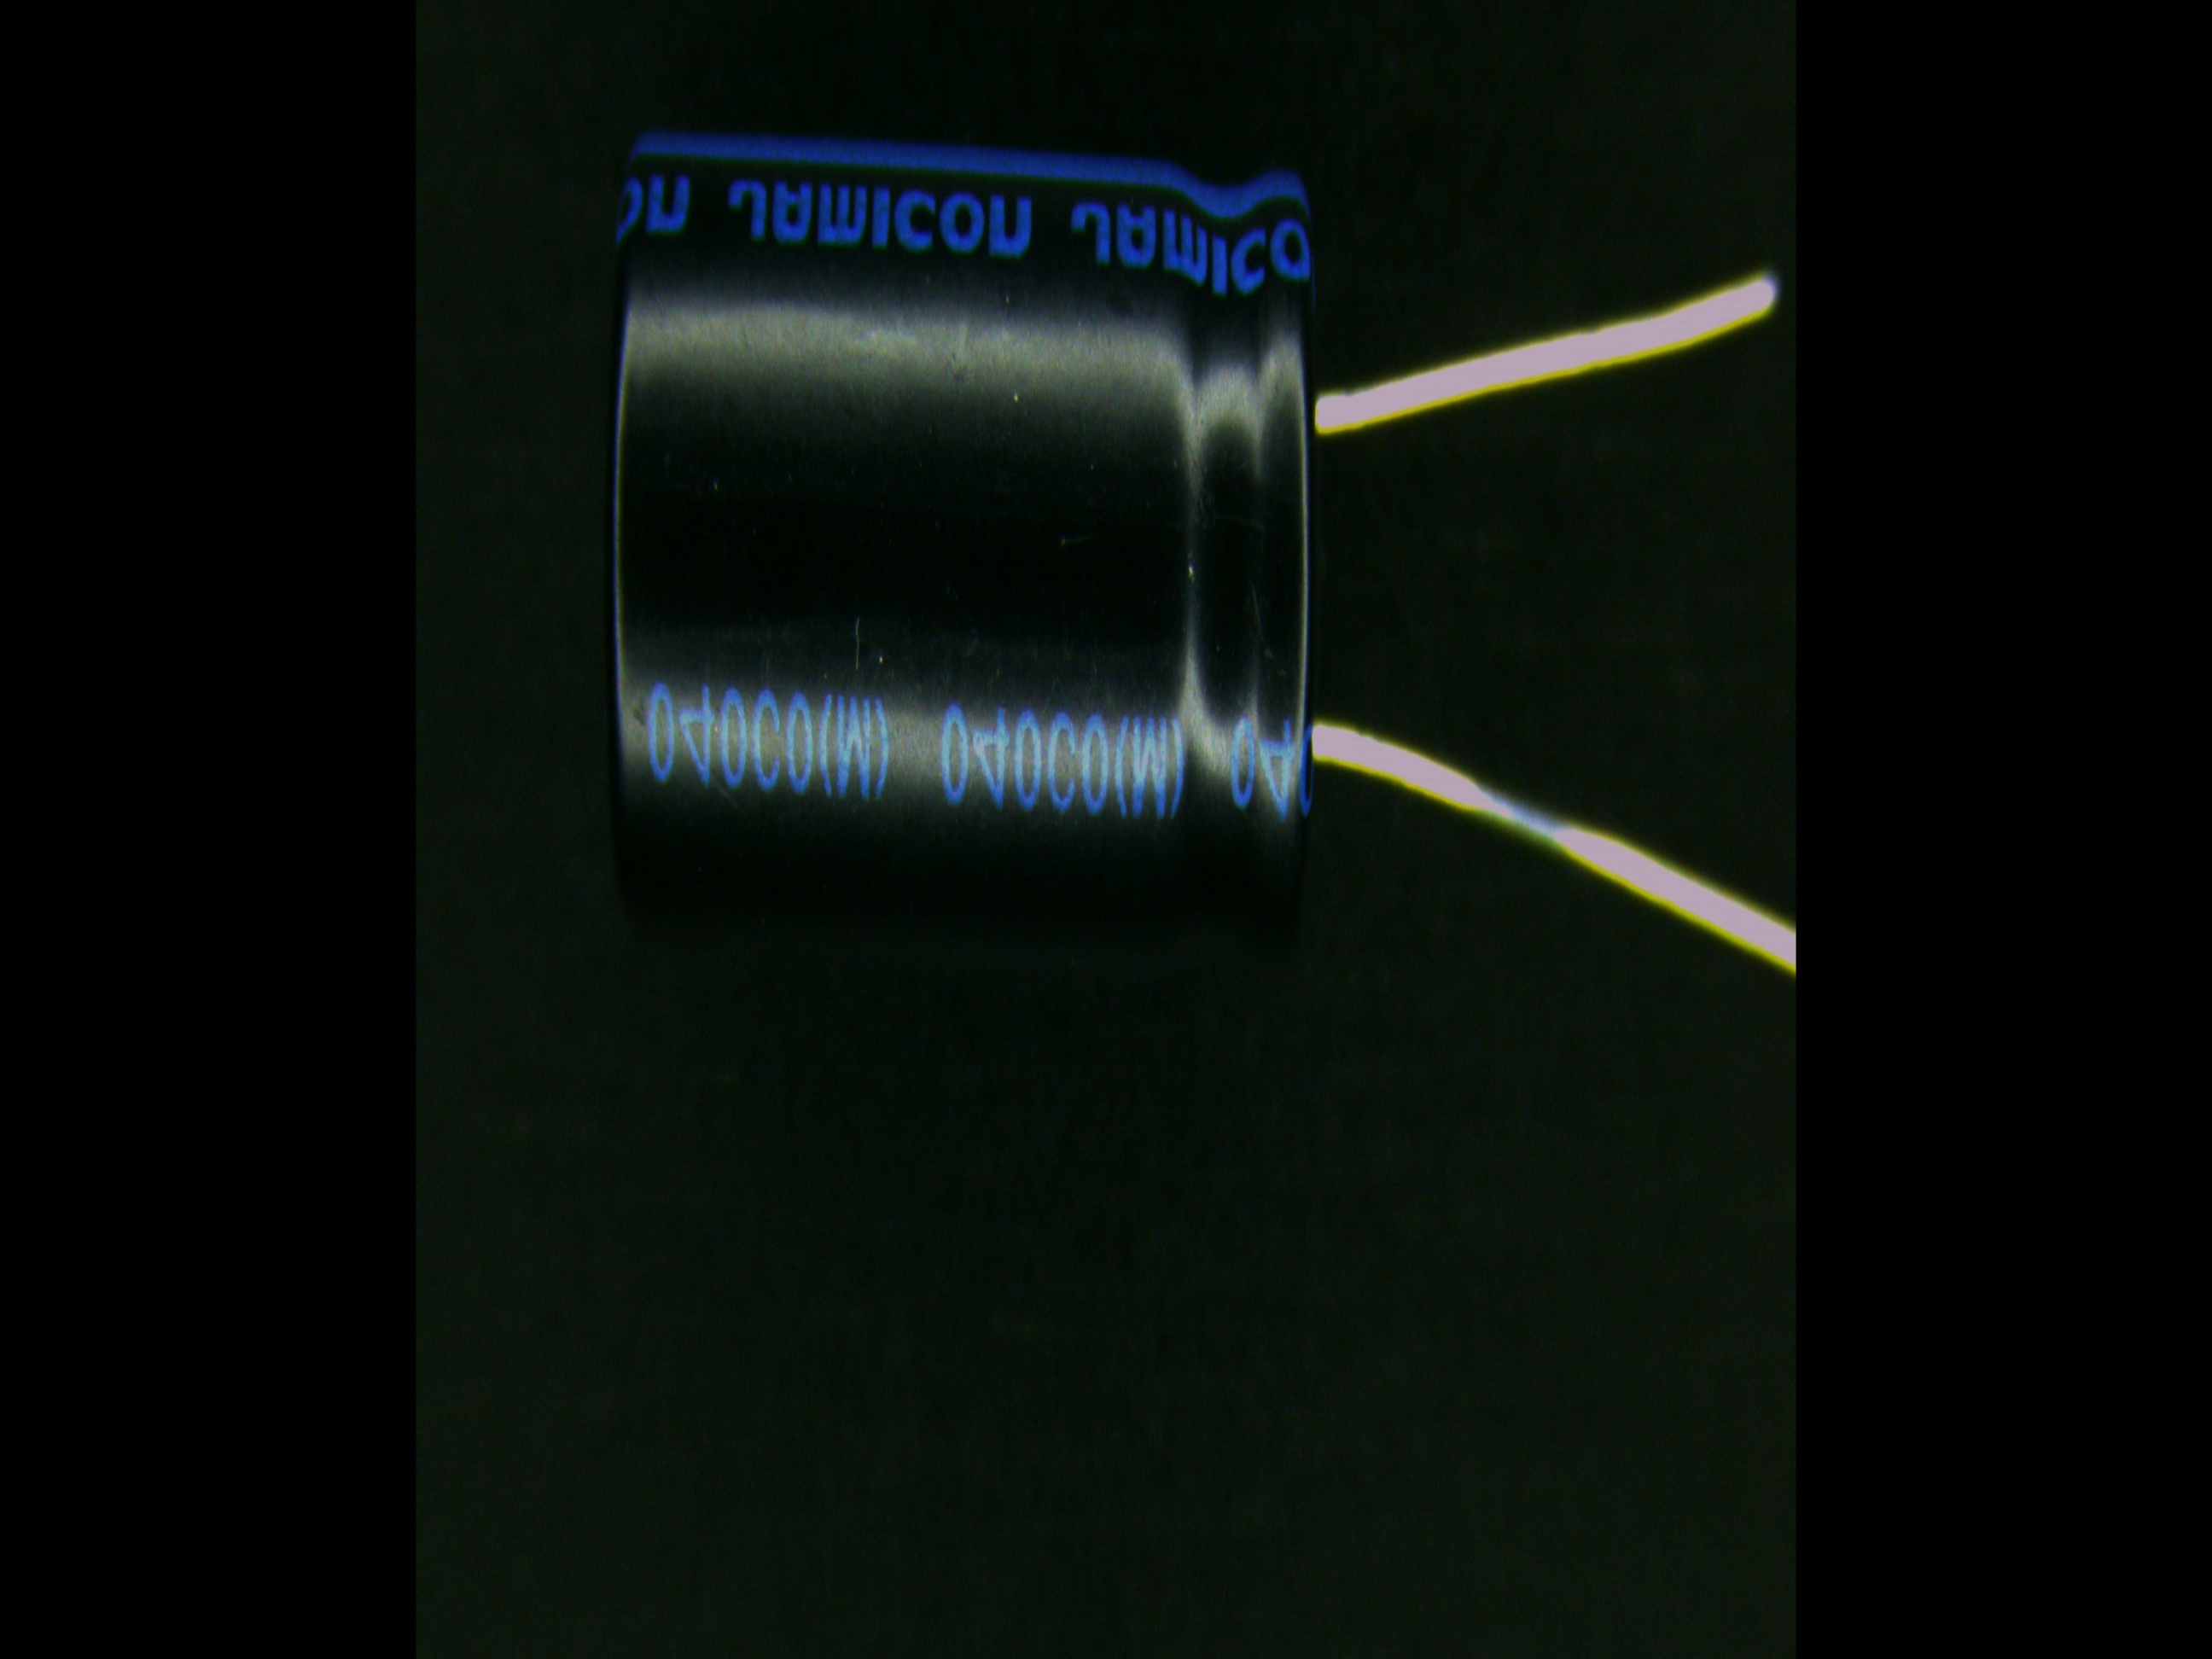c2: (603, 127, 1409, 913)
